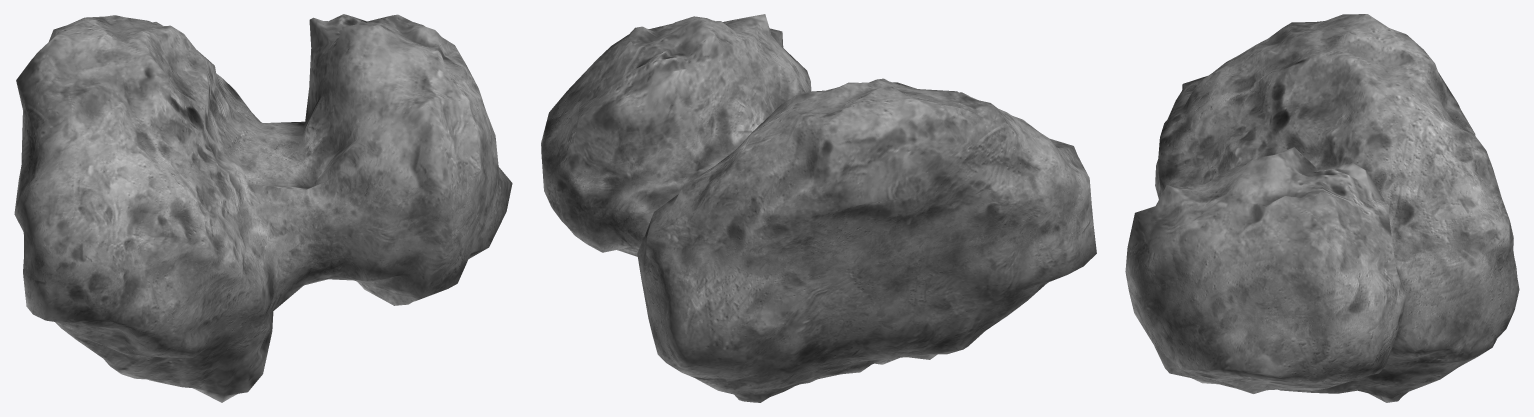
The model's file is churyumov_gerasimenko.glb.
3 renders of one model, left to right at view 1: azimuth 30°, elevation 25°; view 2: azimuth 150°, elevation 25°; view 3: azimuth 270°, elevation 25°, orthographic. The views are drawn at different scales.
Visible parts, largest first — view 1: cmt_67p; view 2: cmt_67p; view 3: cmt_67p.
Boxes of the visible parts, x1,y1,x2,y2 form: cmt_67p: (14,14,512,402); cmt_67p: (541,14,1096,402); cmt_67p: (1125,14,1519,402).
Size of the model in its own units: 4134 by 2731 by 3053.
1 material, 1 textured.
